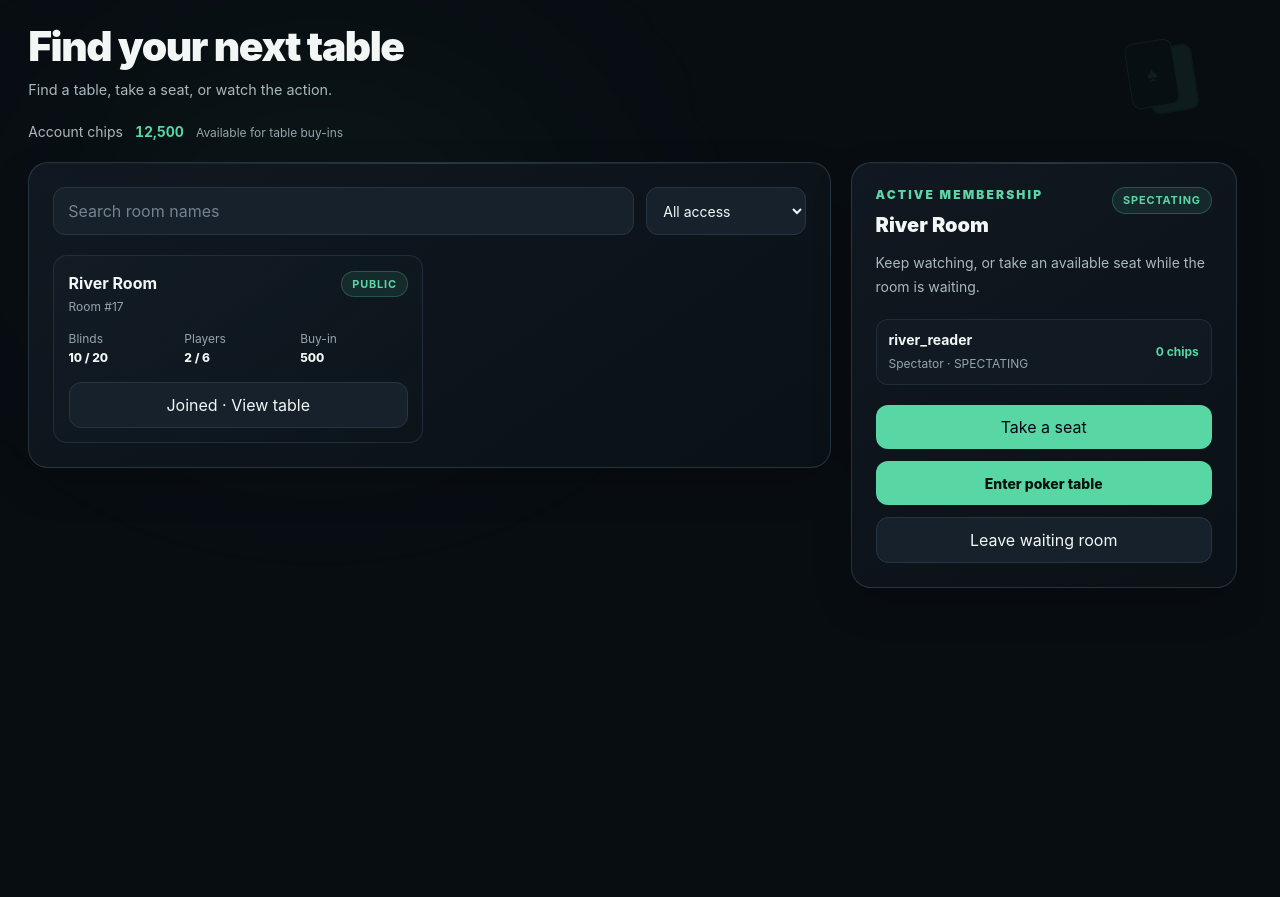
Test case: RoomsPage membership restoration › converts an active spectator into a seated player through the existing join contract
Click the button "Take a seat".
click(1044, 428)  # box left=876, top=406, right=1212, bottom=450
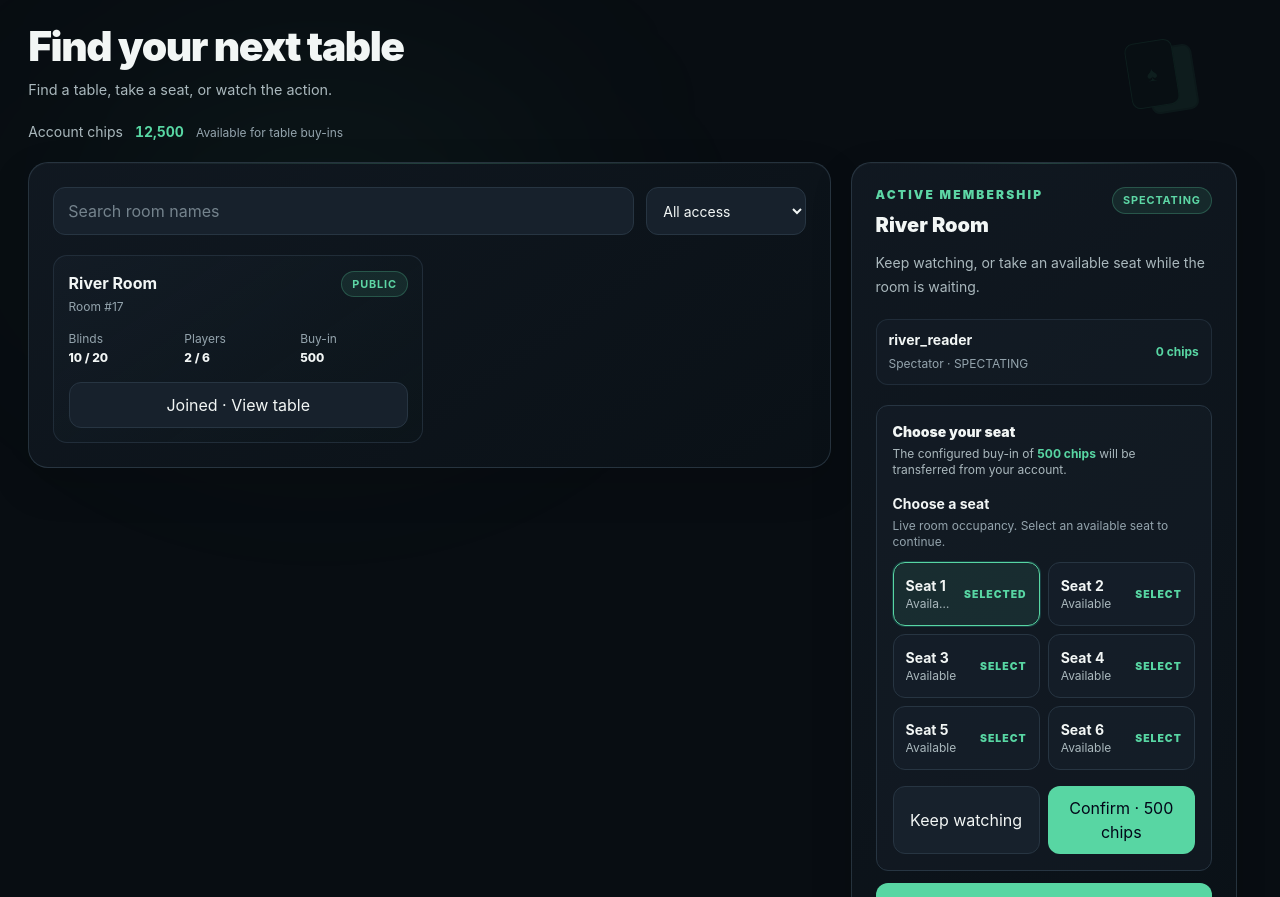
Click the button "Seat 3 Available Select".
click(966, 666)  # box left=892, top=634, right=1040, bottom=698
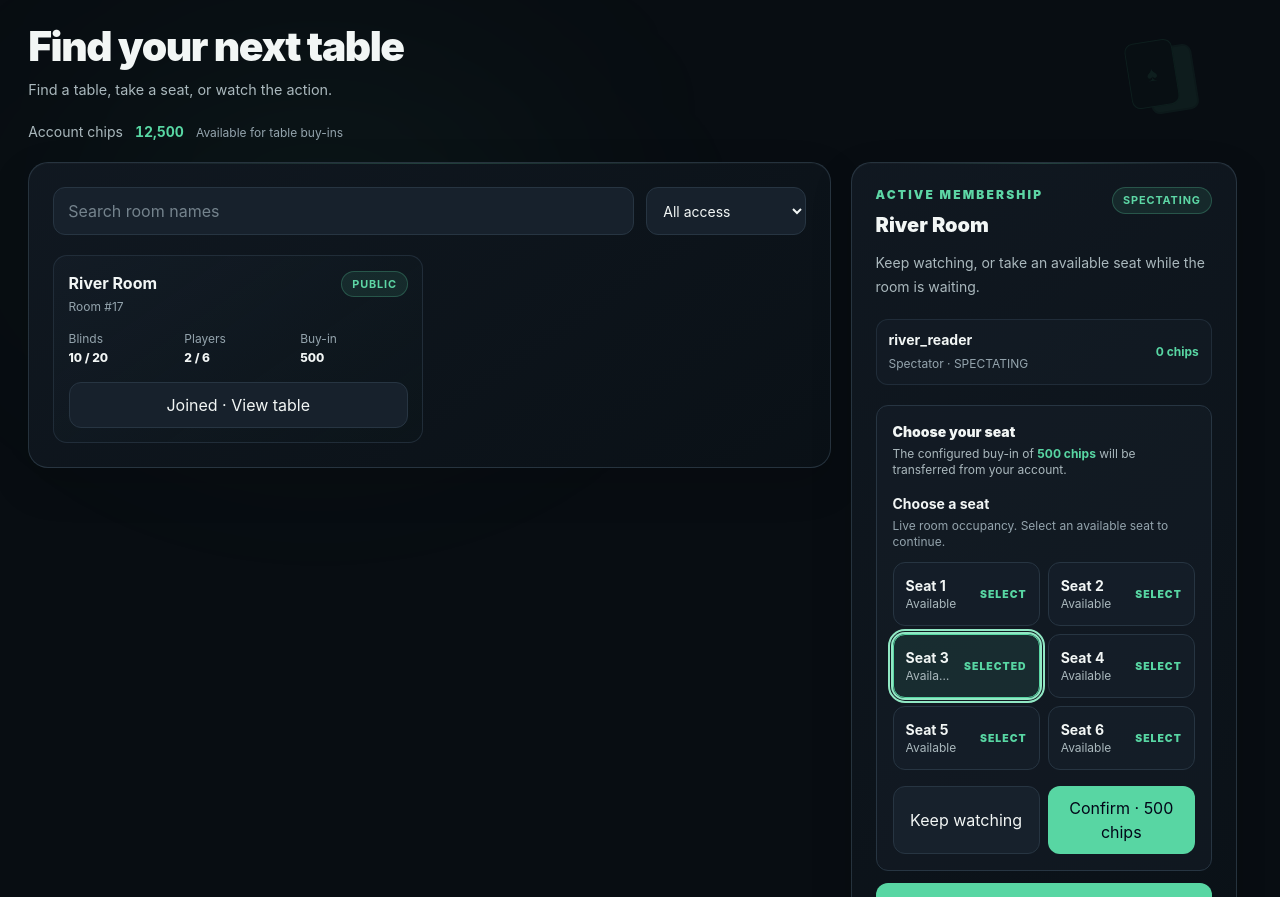
expect the text "configured buy-in of" shows "500 chips": met, box left=892, top=446, right=1136, bottom=478
Click the button "Confirm · 500 chips".
click(1121, 820)  # box left=1048, top=786, right=1195, bottom=854
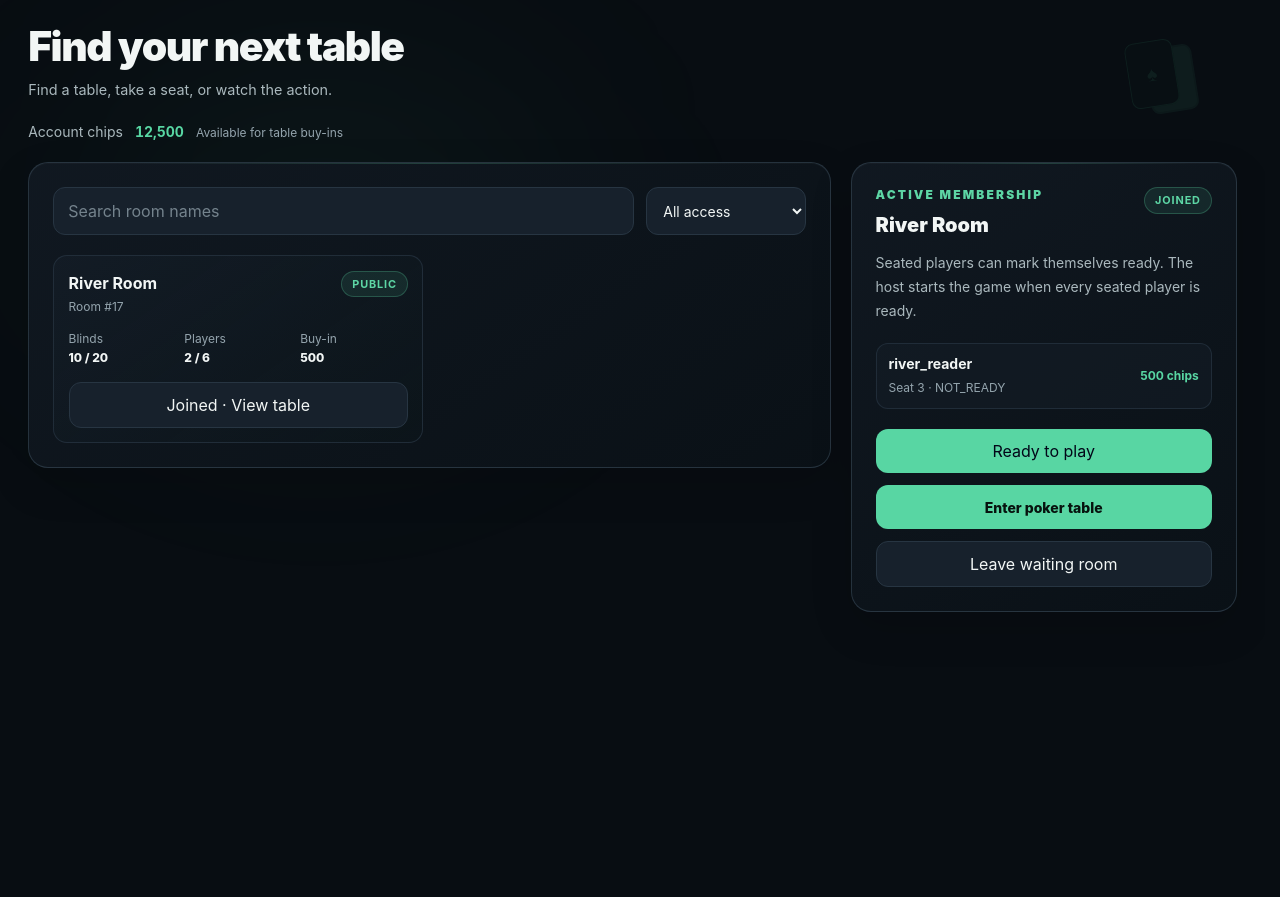
expect the button "Leave waiting room" is shown: met, box left=876, top=542, right=1212, bottom=588
expect the text "Seat 3 · NOT_READY" is shown: met, box left=888, top=380, right=1005, bottom=396
expect the button "Ready to play" is shown: met, box left=876, top=430, right=1212, bottom=474
